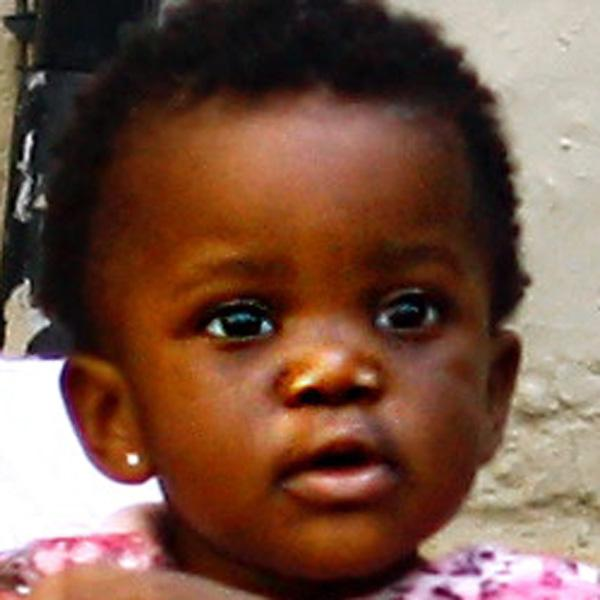Eyes: (189, 285, 290, 359), (364, 276, 462, 342)
